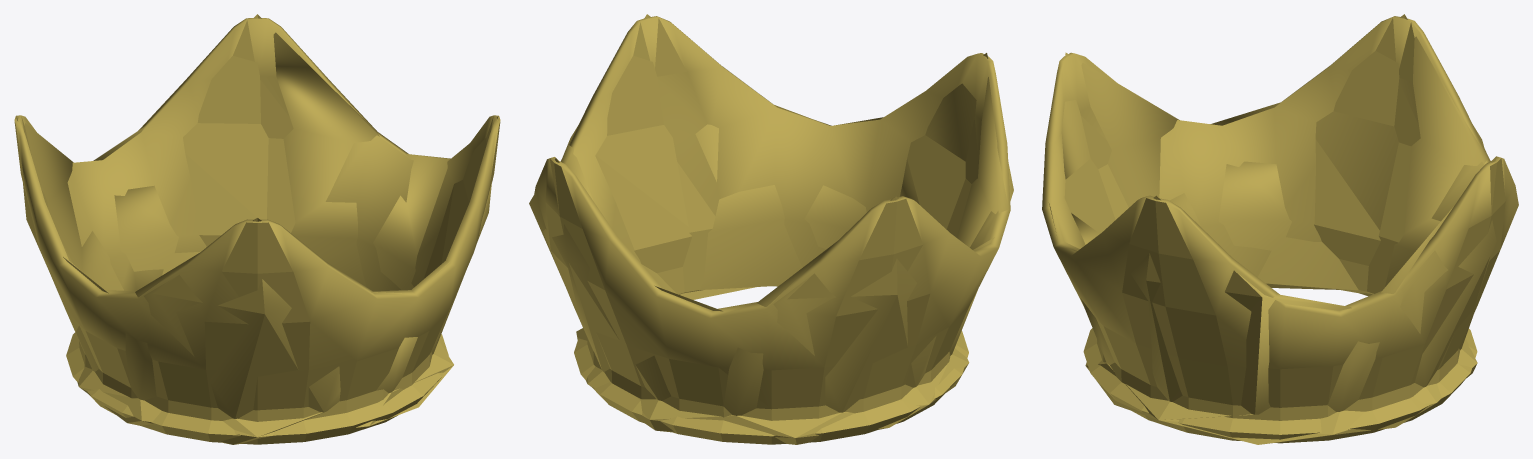
Rendered from Crown.fbx.
3 views of the same model, side by side, from view 1: azimuth 30°, elevation 25°; view 2: azimuth 150°, elevation 25°; view 3: azimuth 270°, elevation 25° (orthographic). The views are drawn at different scales.
Visible parts, largest first — view 1: High_Crown, Low_Crown; view 2: High_Crown, Low_Crown; view 3: High_Crown, Low_Crown.
Part boxes in pixels (left/top/right/bottom): High_Crown: left=14, top=18, right=500, bottom=444; Low_Crown: left=16, top=14, right=498, bottom=444; High_Crown: left=534, top=16, right=1010, bottom=444; Low_Crown: left=529, top=14, right=1013, bottom=444; High_Crown: left=1042, top=16, right=1518, bottom=443; Low_Crown: left=1049, top=14, right=1496, bottom=444.
Bounding box in the file's own units: 83.73 × 49.97 × 83.15.
